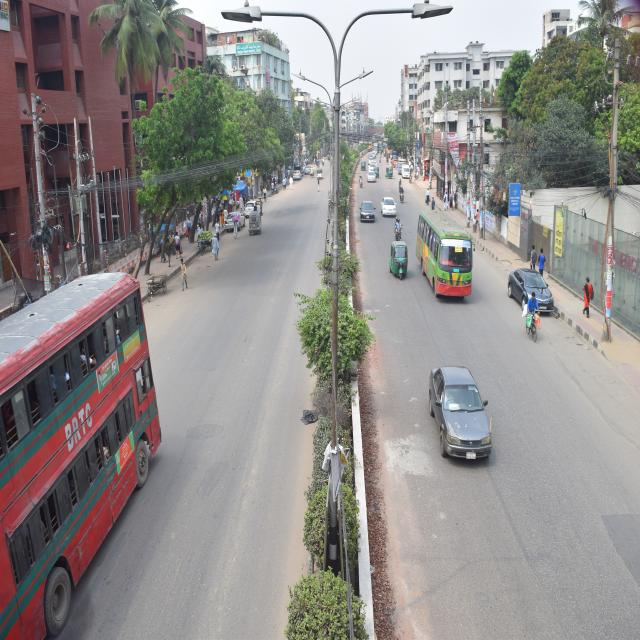bus: (6, 273, 168, 595), (414, 206, 483, 302)
car: (428, 356, 490, 468), (499, 250, 559, 316), (218, 207, 246, 241), (378, 193, 396, 216), (357, 200, 375, 221), (367, 170, 379, 184)
motorbike: (524, 292, 542, 336), (396, 187, 412, 212), (390, 220, 404, 241), (356, 173, 364, 193)
